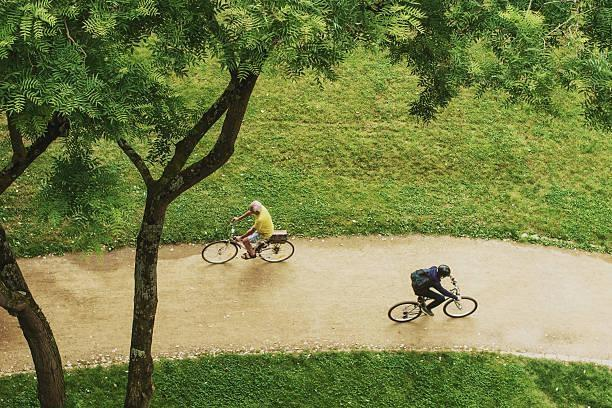Motorcycle: (374, 282, 481, 327), (205, 221, 295, 267)
